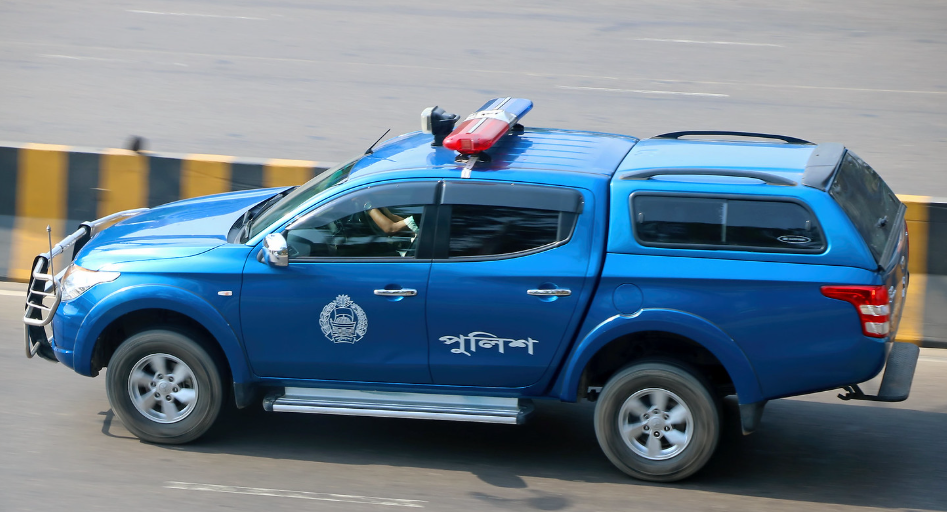Police cars: (16, 99, 936, 481)
